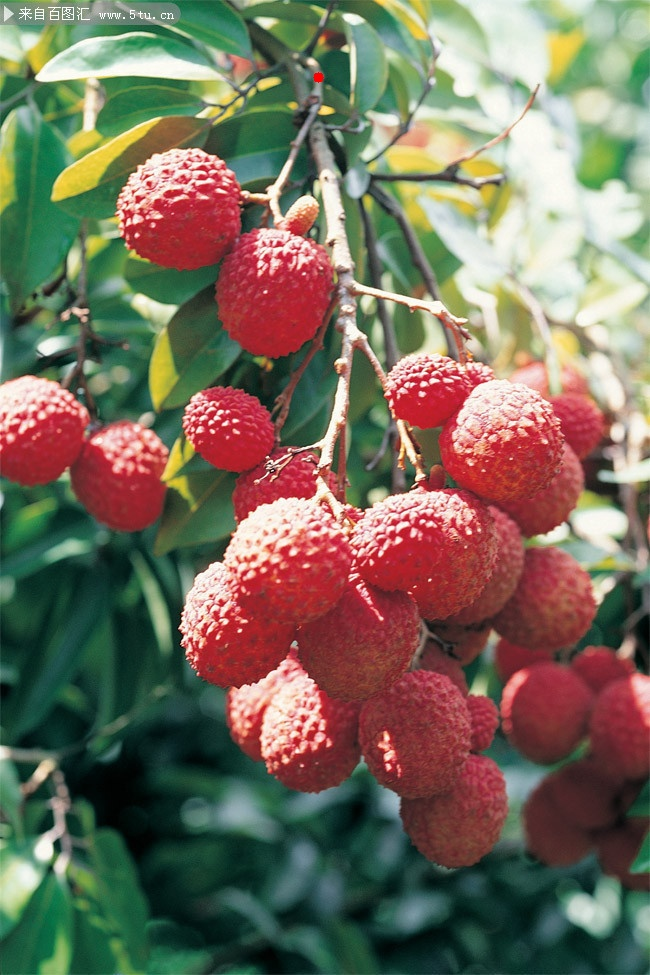litchi: (128, 158, 581, 866), (508, 645, 650, 881)
stem: (245, 18, 344, 186)
